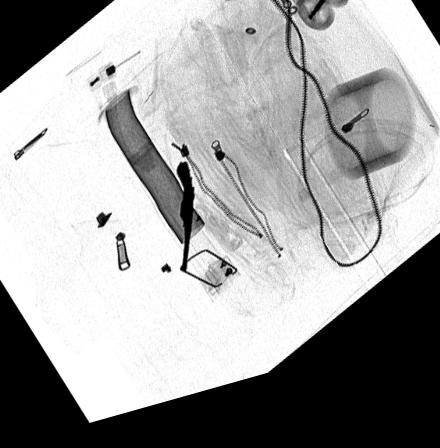Gun: (173, 167, 193, 284)
